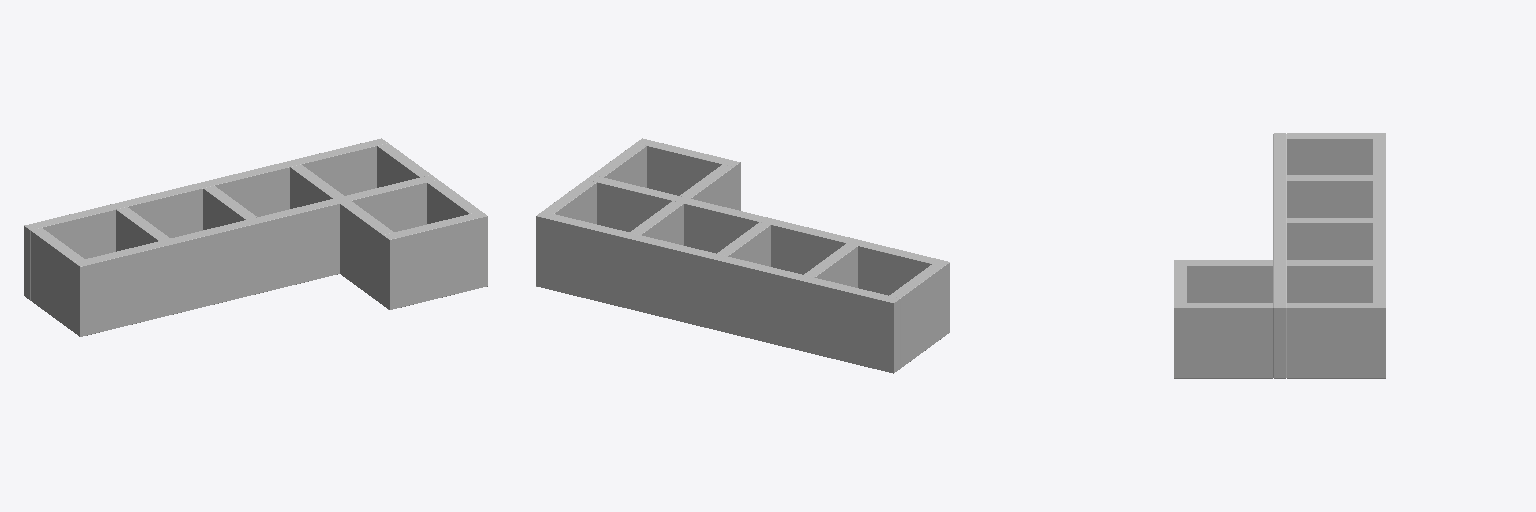
The model's file is BoConcept Bookcase L0.obj.
The picture shows the model from 3 angles: view 1: azimuth 30°, elevation 25°; view 2: azimuth 150°, elevation 25°; view 3: azimuth 270°, elevation 25°; orthographic projection.
Visible parts, largest first — view 1: BoConcept_Bookcase; view 2: BoConcept_Bookcase; view 3: BoConcept_Bookcase.
Part boxes in pixels (x1,y1,x2,y2): BoConcept_Bookcase: (24,138,487,336); BoConcept_Bookcase: (536,138,949,373); BoConcept_Bookcase: (1174,133,1385,378).
Bounding box in the file's own units: 62.8 × 11.81 × 32.28.